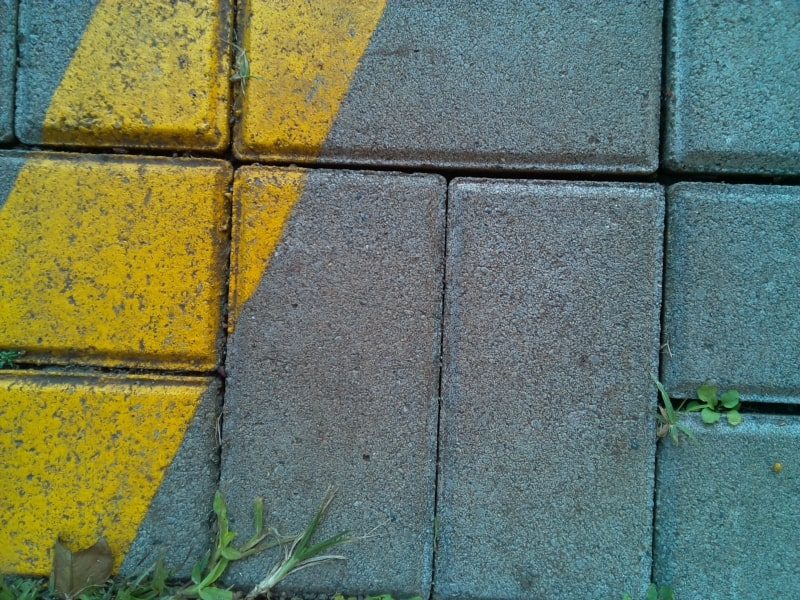Weed: (3, 504, 335, 600), (650, 375, 693, 447), (698, 385, 743, 427), (227, 47, 257, 95)
